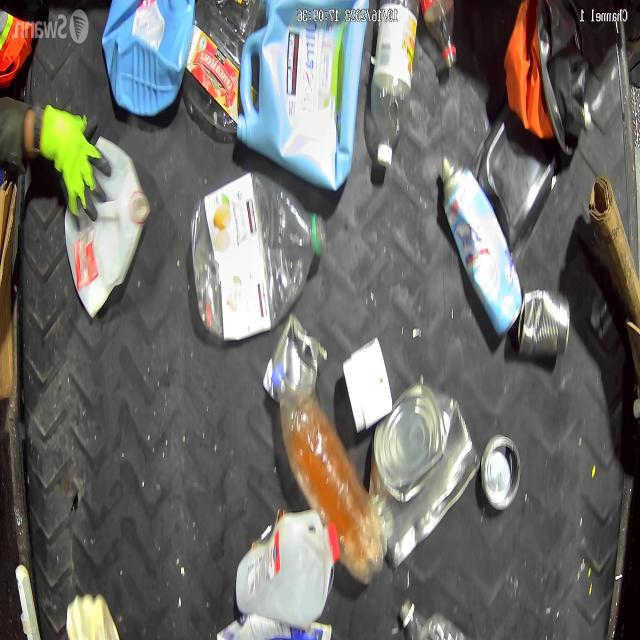can: (367, 378, 480, 562), (441, 153, 523, 334), (262, 314, 320, 402), (517, 286, 573, 358), (478, 433, 521, 511)
milk_jug: (66, 138, 149, 312), (243, 507, 346, 619)
non_white_jug: (240, 6, 371, 180), (100, 0, 196, 111)
plastic_bottle: (272, 363, 386, 584), (190, 168, 327, 340), (370, 0, 423, 165)
